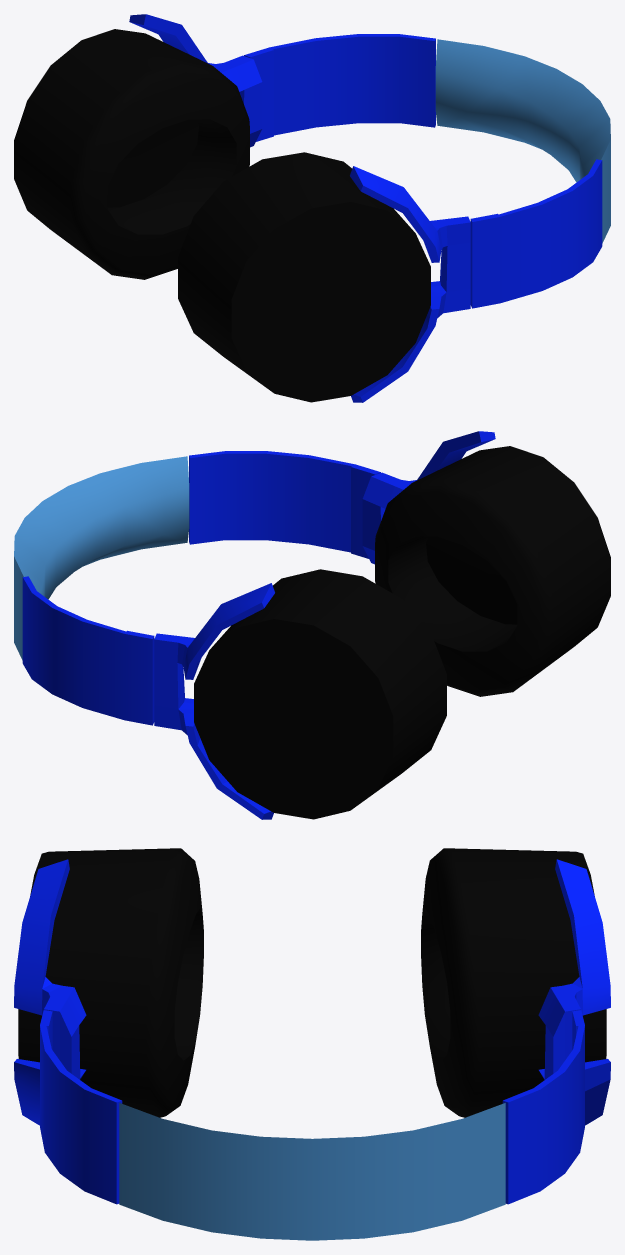
Rendered from SM_Headphones.fbx.
3 renders of one model, top to bottom at view 1: azimuth 30°, elevation 25°; view 2: azimuth 150°, elevation 25°; view 3: azimuth 270°, elevation 25°, orthographic. The views are drawn at different scales.
Visible parts, largest first — view 1: SM_Headphones; view 2: SM_Headphones; view 3: SM_Headphones.
Part boxes in pixels (x1,y1,x2,y2): SM_Headphones: [14, 14, 610, 402]; SM_Headphones: [14, 431, 610, 819]; SM_Headphones: [14, 848, 610, 1240].
Size of the model in its own units: 35.58 by 33.98 by 17.52.
1 material, 1 textured.
